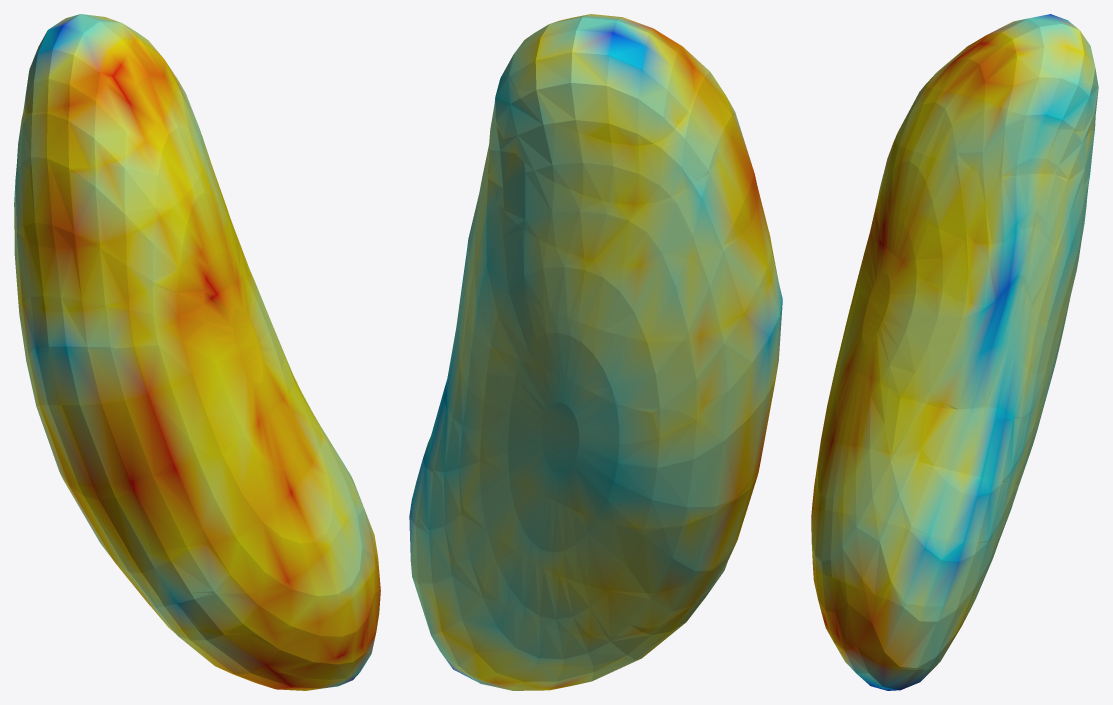
File: errormap.glb
3 renders of one model, left to right at view 1: azimuth 30°, elevation 25°; view 2: azimuth 150°, elevation 25°; view 3: azimuth 270°, elevation 25°, orthographic. The views are drawn at different scales.
Parts seen in each view (by area): view 1: world; view 2: world; view 3: world.
Part boxes in pixels (left/top/right/bottom): world: left=14, top=14, right=380, bottom=690; world: left=409, top=14, right=782, bottom=690; world: left=811, top=14, right=1098, bottom=690.
Bounding box in the file's own units: 0.0124 × 0.0242 × 0.0107.
